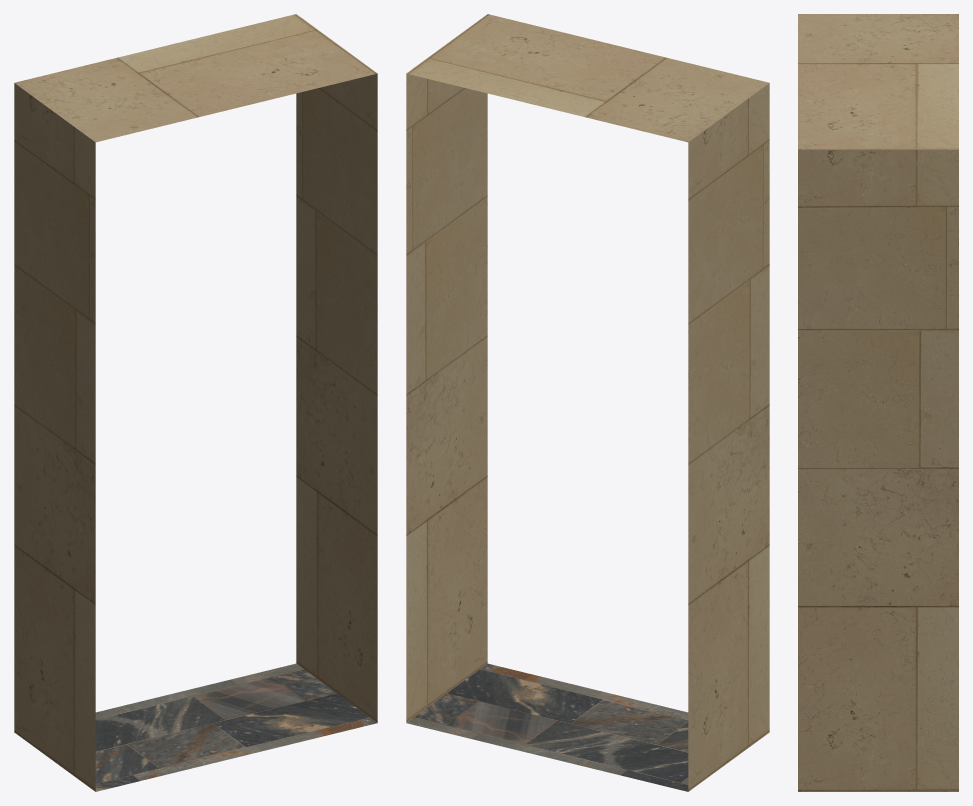
Rendered from SingleDoorVolume_01.fbx.
3 renders of one model, left to right at view 1: azimuth 30°, elevation 25°; view 2: azimuth 150°, elevation 25°; view 3: azimuth 270°, elevation 25°, orthographic.
Visible parts, largest first — view 1: Cube.147; view 2: Cube.147; view 3: Cube.147.
Part boxes in pixels (left/top/right/bottom): Cube.147: left=14, top=14, right=377, bottom=791; Cube.147: left=406, top=14, right=769, bottom=791; Cube.147: left=798, top=14, right=958, bottom=791.
Bounding box in the file's own units: 100 × 220 × 50.
